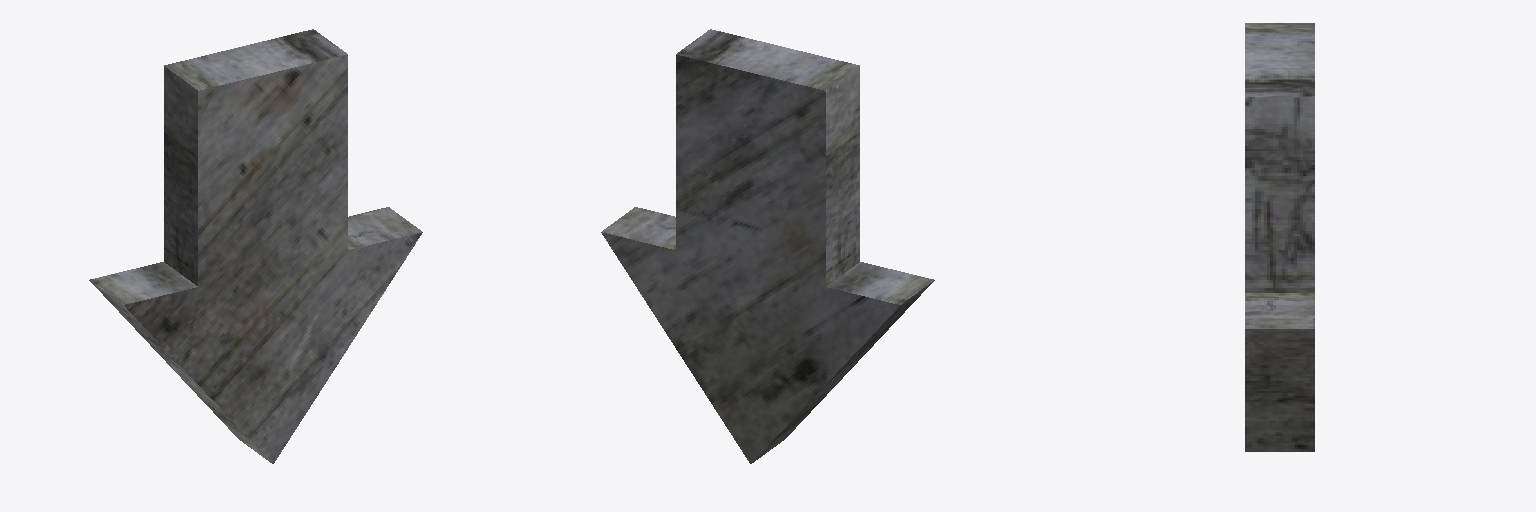
The picture shows the model from 3 angles: view 1: azimuth 30°, elevation 25°; view 2: azimuth 150°, elevation 25°; view 3: azimuth 270°, elevation 25°; orthographic projection.
Visible parts, largest first — view 1: Line001; view 2: Line001; view 3: Line001.
Boxes of the visible parts, x1=… form: Line001: x1=89, y1=29, x2=422, y2=463; Line001: x1=601, y1=29, x2=934, y2=463; Line001: x1=1245, y1=23, x2=1314, y2=451.
Bounding box in the file's own units: 30.7 × 38.37 × 6.14.
Materials: 1 (1 with a texture image).